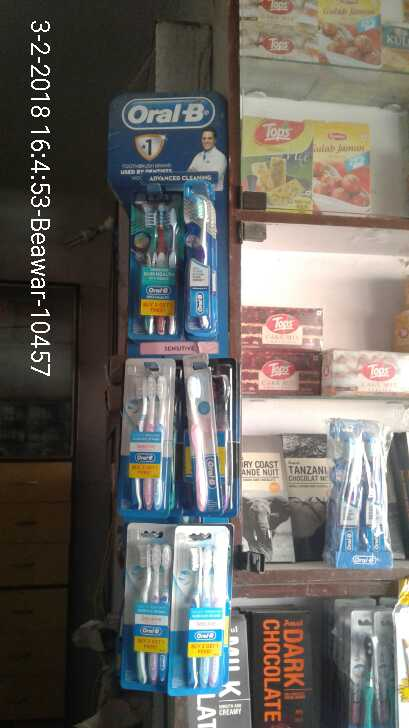oralb: (172, 526, 225, 697), (123, 524, 176, 692), (117, 355, 169, 517), (127, 196, 184, 339), (181, 357, 221, 516), (183, 180, 221, 336)
